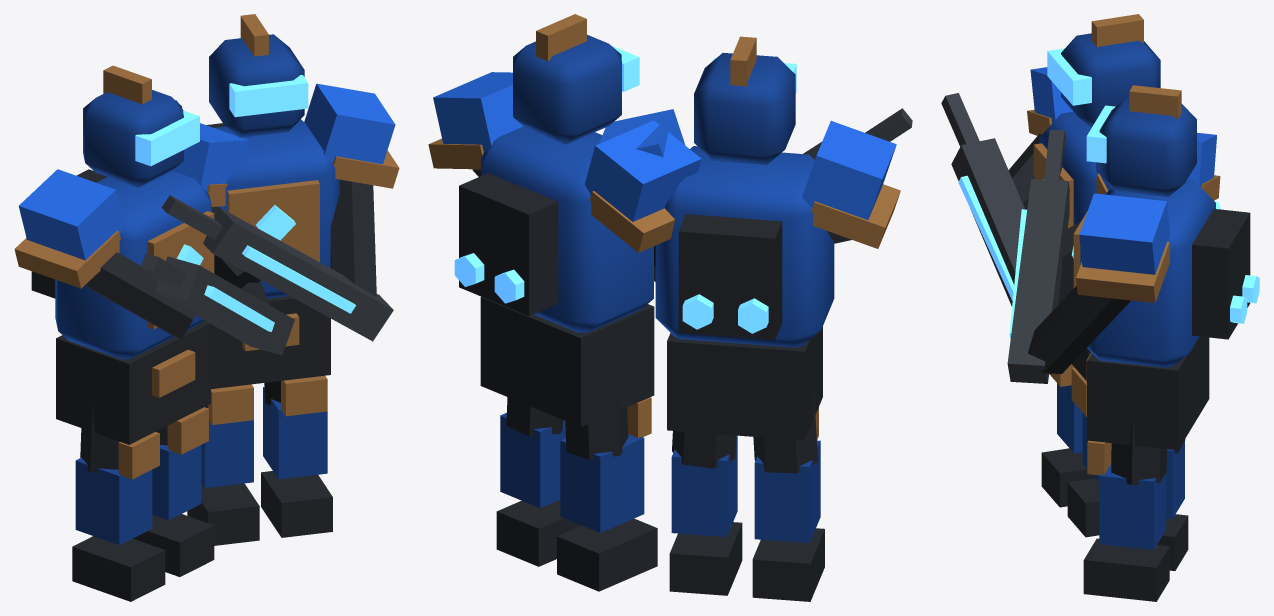
File: sentry_dl8_blue.glb
3 renders of one model, left to right at view 1: azimuth 30°, elevation 25°; view 2: azimuth 150°, elevation 25°; view 3: azimuth 270°, elevation 25°, orthographic. The views are drawn at different scales.
Visible parts, largest first — view 1: sentry_dl8_blue; view 2: sentry_dl8_blue; view 3: sentry_dl8_blue.
Boxes of the visible parts, x1,y1,x2,y2 form: sentry_dl8_blue: (14,14,399,601); sentry_dl8_blue: (428,14,912,601); sentry_dl8_blue: (941,14,1259,601).
Size of the model in its own units: 0.3555 by 0.428 by 0.2557.
2 materials, 1 textured.
